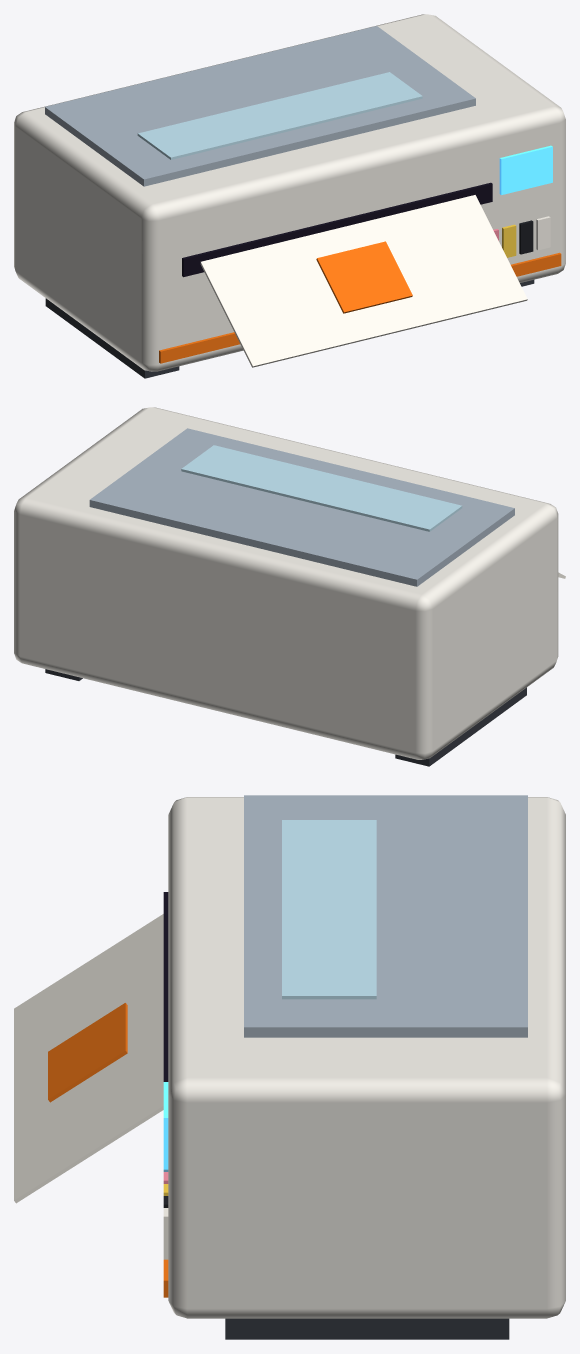
File: station_buffer_ausstattung_1_2.glb
3 renders of one model, top to bottom at view 1: azimuth 30°, elevation 25°; view 2: azimuth 150°, elevation 25°; view 3: azimuth 270°, elevation 25°, orthographic. The views are drawn at different scales.
Parts seen in each view (by area): view 1: station_buffer_ausstattung_1_2; view 2: station_buffer_ausstattung_1_2; view 3: station_buffer_ausstattung_1_2.
Boxes of the visible parts, left/top/right/bottom form: station_buffer_ausstattung_1_2: left=14, top=14, right=565, bottom=378; station_buffer_ausstattung_1_2: left=14, top=407, right=565, bottom=766; station_buffer_ausstattung_1_2: left=14, top=795, right=565, bottom=1339.
Bounding box in the file's own units: 0.74 × 0.326 × 0.5831.
